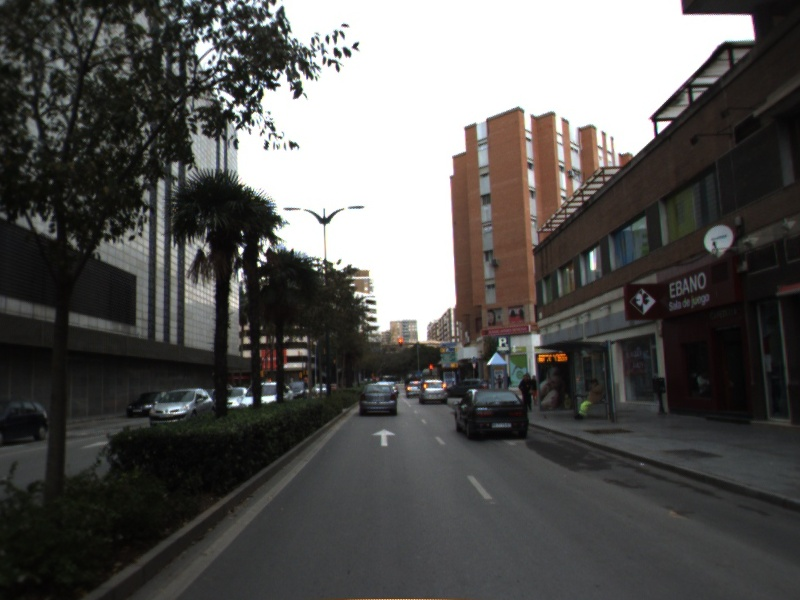STRAIGHT: (370, 428, 397, 448)
